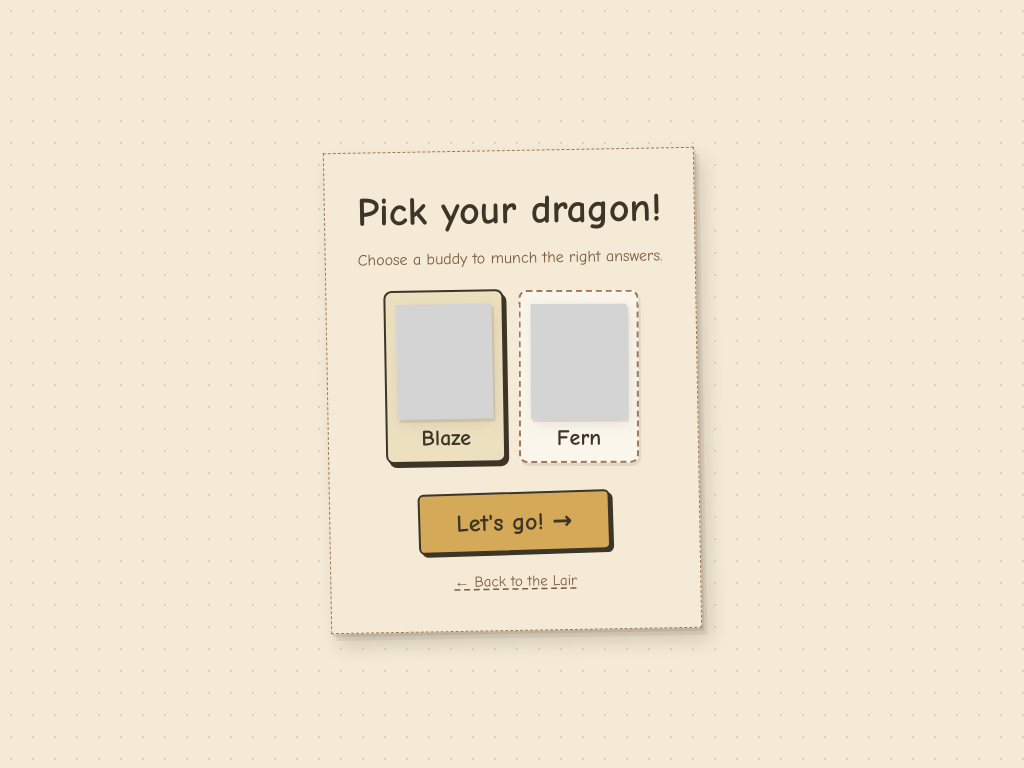
Scenario: DragonMunchers — the board › labels a add round for base 4
Click the button "Let's go! →" at (514, 522), box [417,488,611,554]
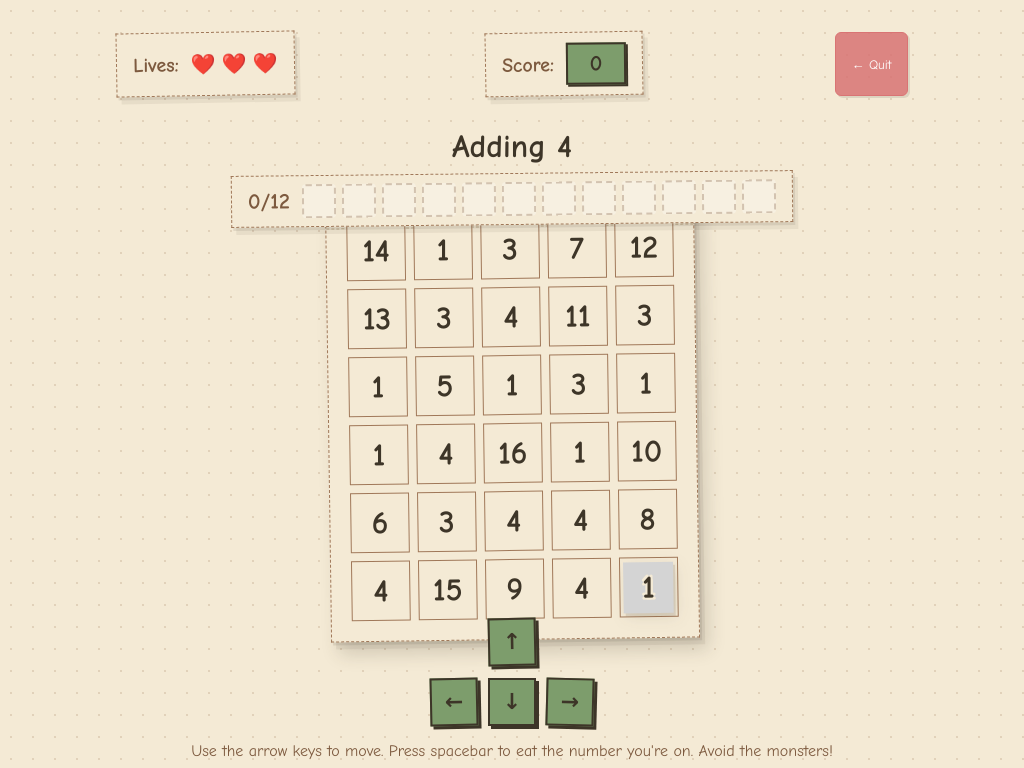
Expected: the text "Adding 4" is shown, [452,128,572,165]
